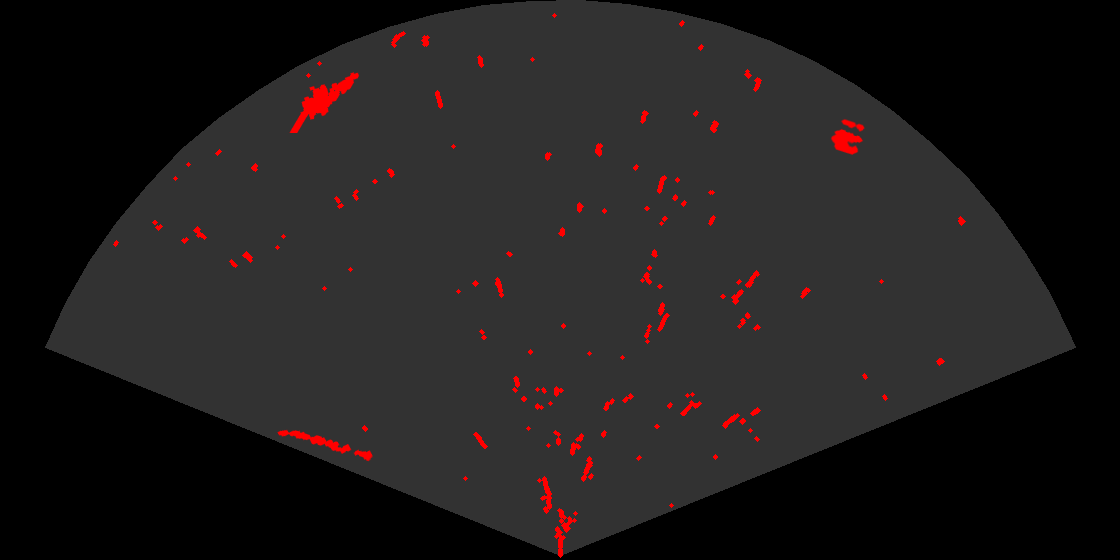ball: (829, 117, 866, 156)
chain: (276, 428, 375, 463)
frogman: (288, 71, 361, 133)
